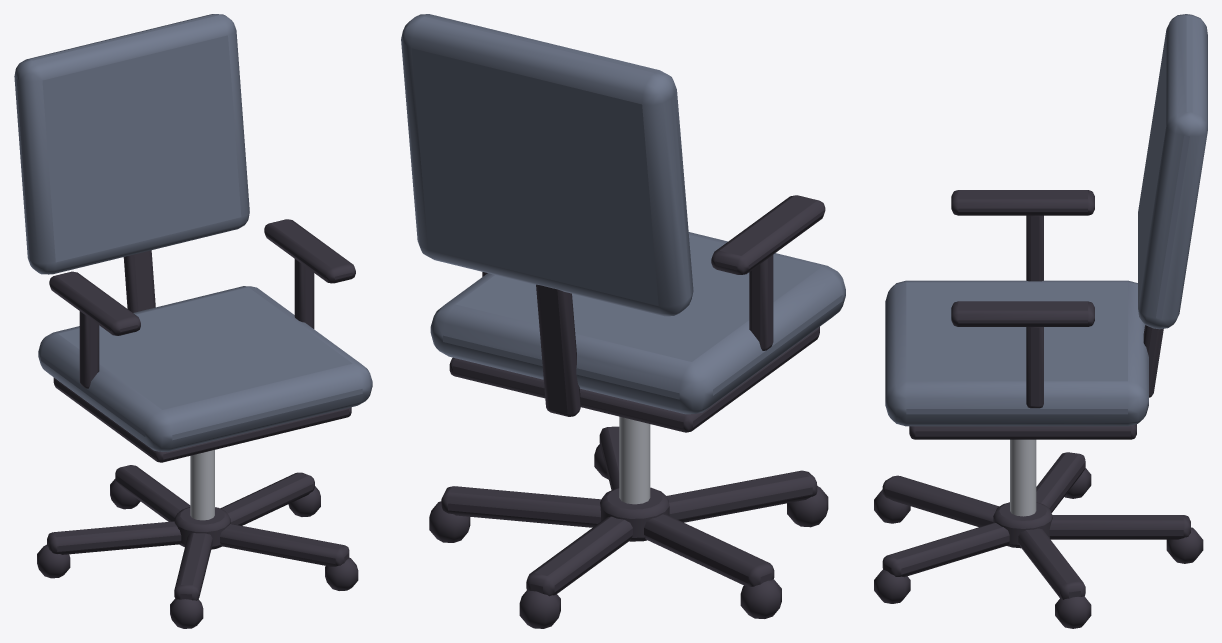
File: chair.glb
3 renders of one model, left to right at view 1: azimuth 30°, elevation 25°; view 2: azimuth 150°, elevation 25°; view 3: azimuth 270°, elevation 25°, orthographic. The views are drawn at different scales.
Parts seen in each view (by area): view 1: chair; view 2: chair; view 3: chair.
Part boxes in pixels (bbox=[...]): chair: bbox=[14, 14, 372, 628]; chair: bbox=[401, 14, 845, 628]; chair: bbox=[874, 14, 1207, 628].
Bounding box in the file's own units: 0.5744 × 0.9187 × 0.5572.
